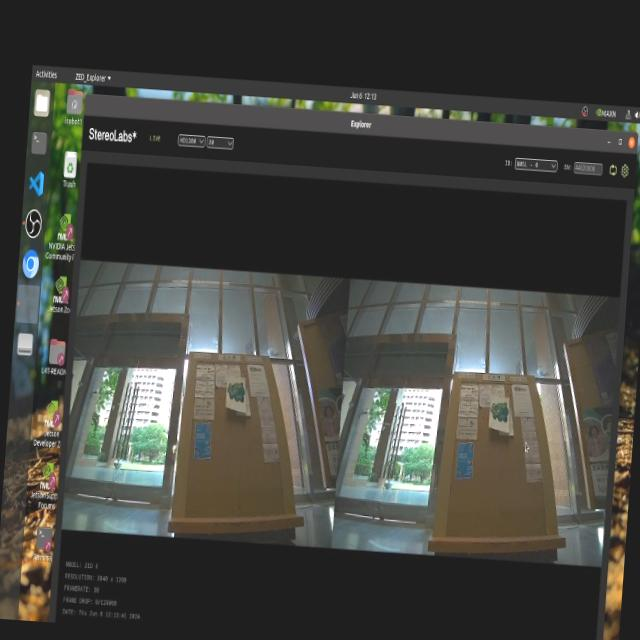green: (224, 372, 258, 424), (483, 398, 507, 428)
